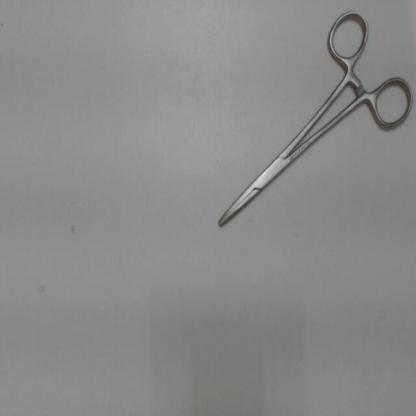Mayo Needle Holder: (203, 4, 416, 242)
